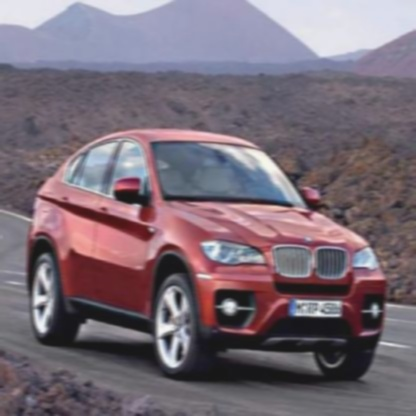Vehicle: (25, 129, 390, 386)
